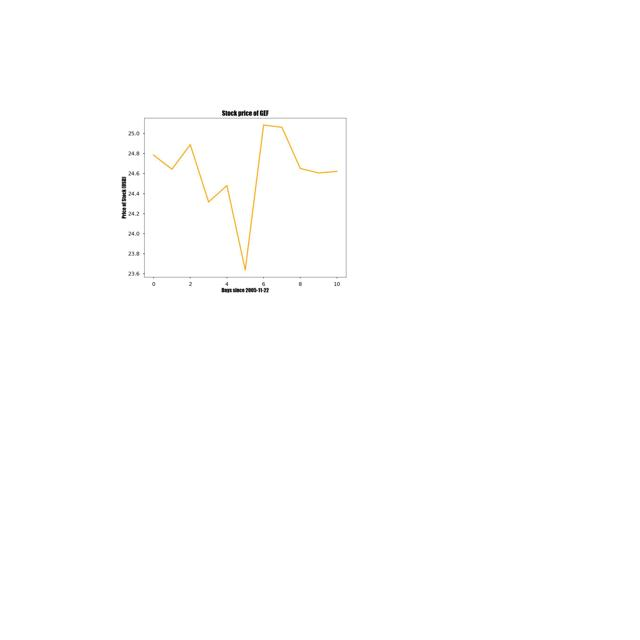Graph: (91, 93, 392, 300)
